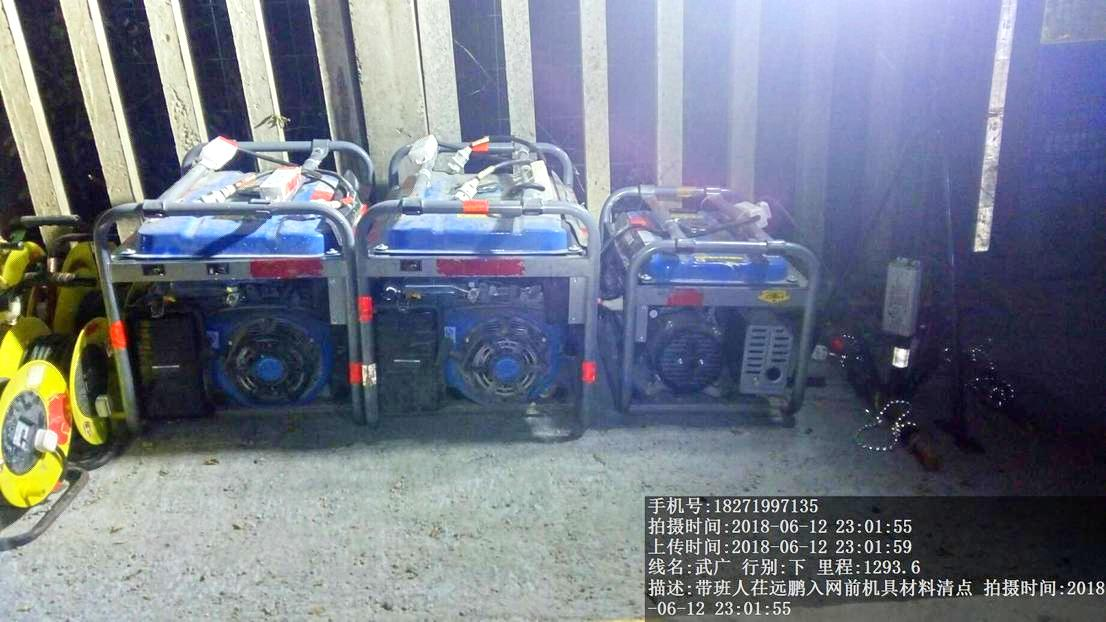DJ: (82, 132, 362, 425), (366, 137, 600, 426), (600, 173, 825, 430)
